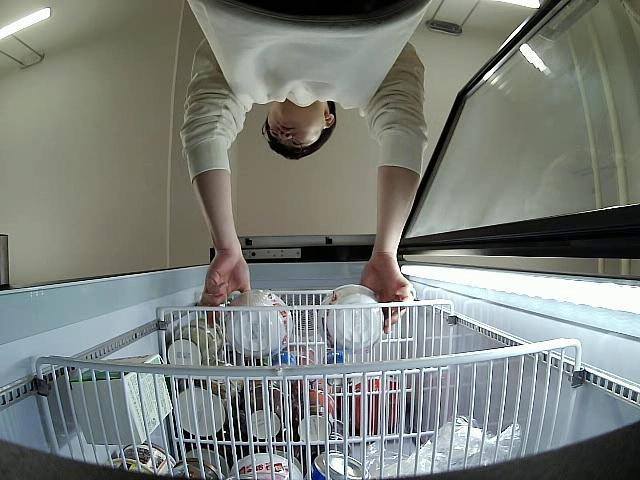09_yukGaeJang: (220, 290, 292, 358), (320, 284, 384, 353)
